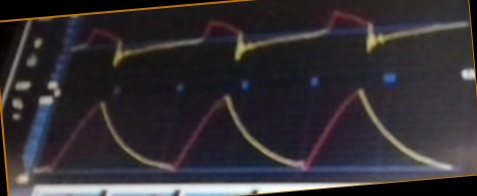Accumulation Flow: (71, 7, 468, 69)
Volume: (37, 87, 454, 177)
